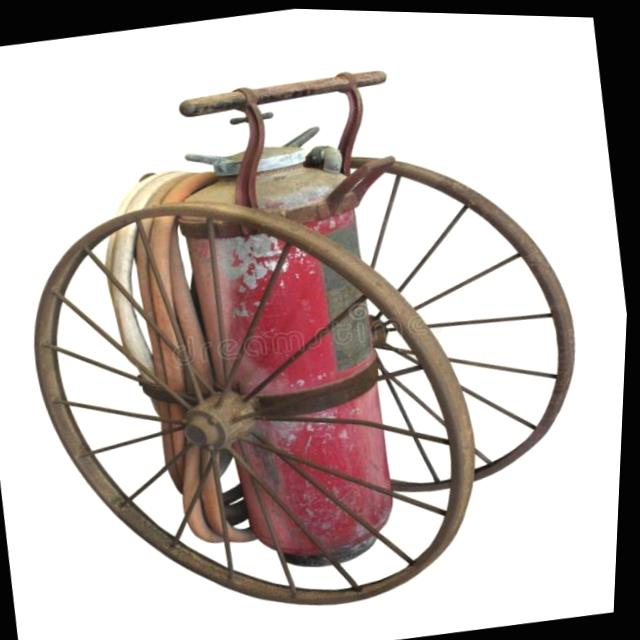FireExtinguisher: (79, 105, 466, 599)
